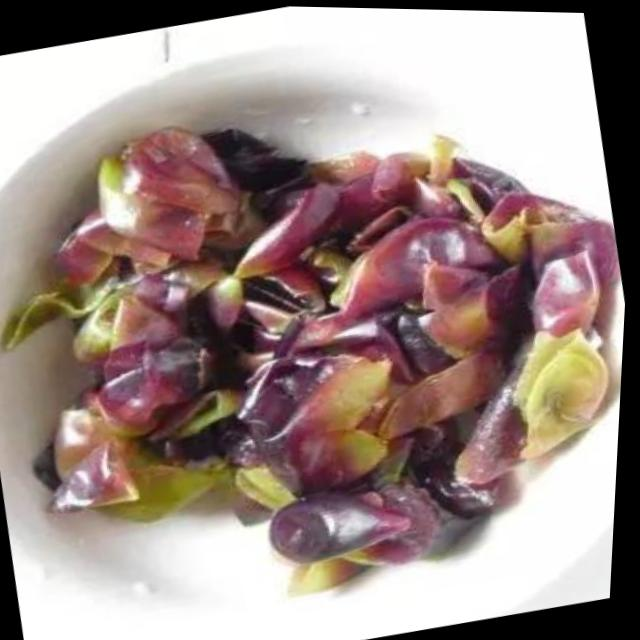Wet: (0, 31, 639, 640)
